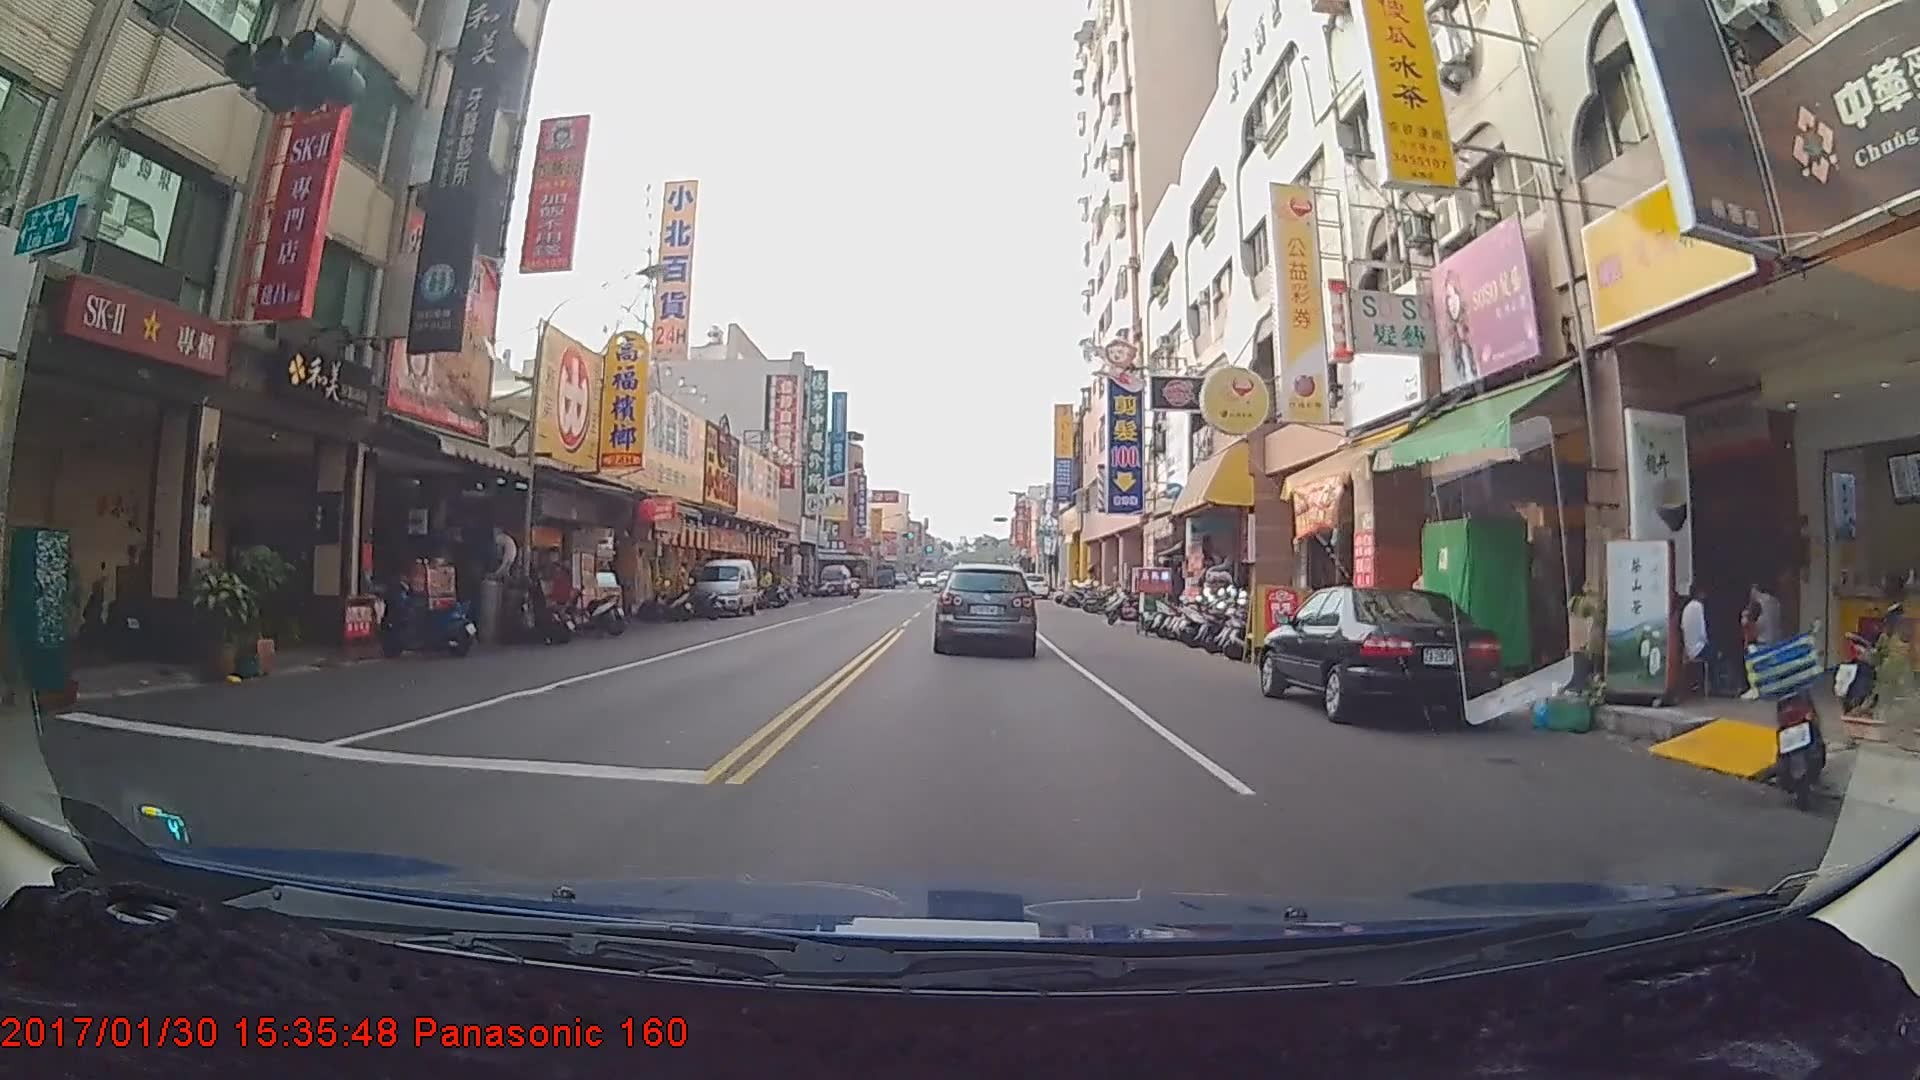pedestrian: (1738, 572, 1794, 705), (1677, 575, 1729, 698)
vehicle: (1258, 584, 1502, 724), (935, 563, 1036, 655), (691, 562, 756, 622), (817, 564, 849, 599), (1016, 571, 1048, 599)
